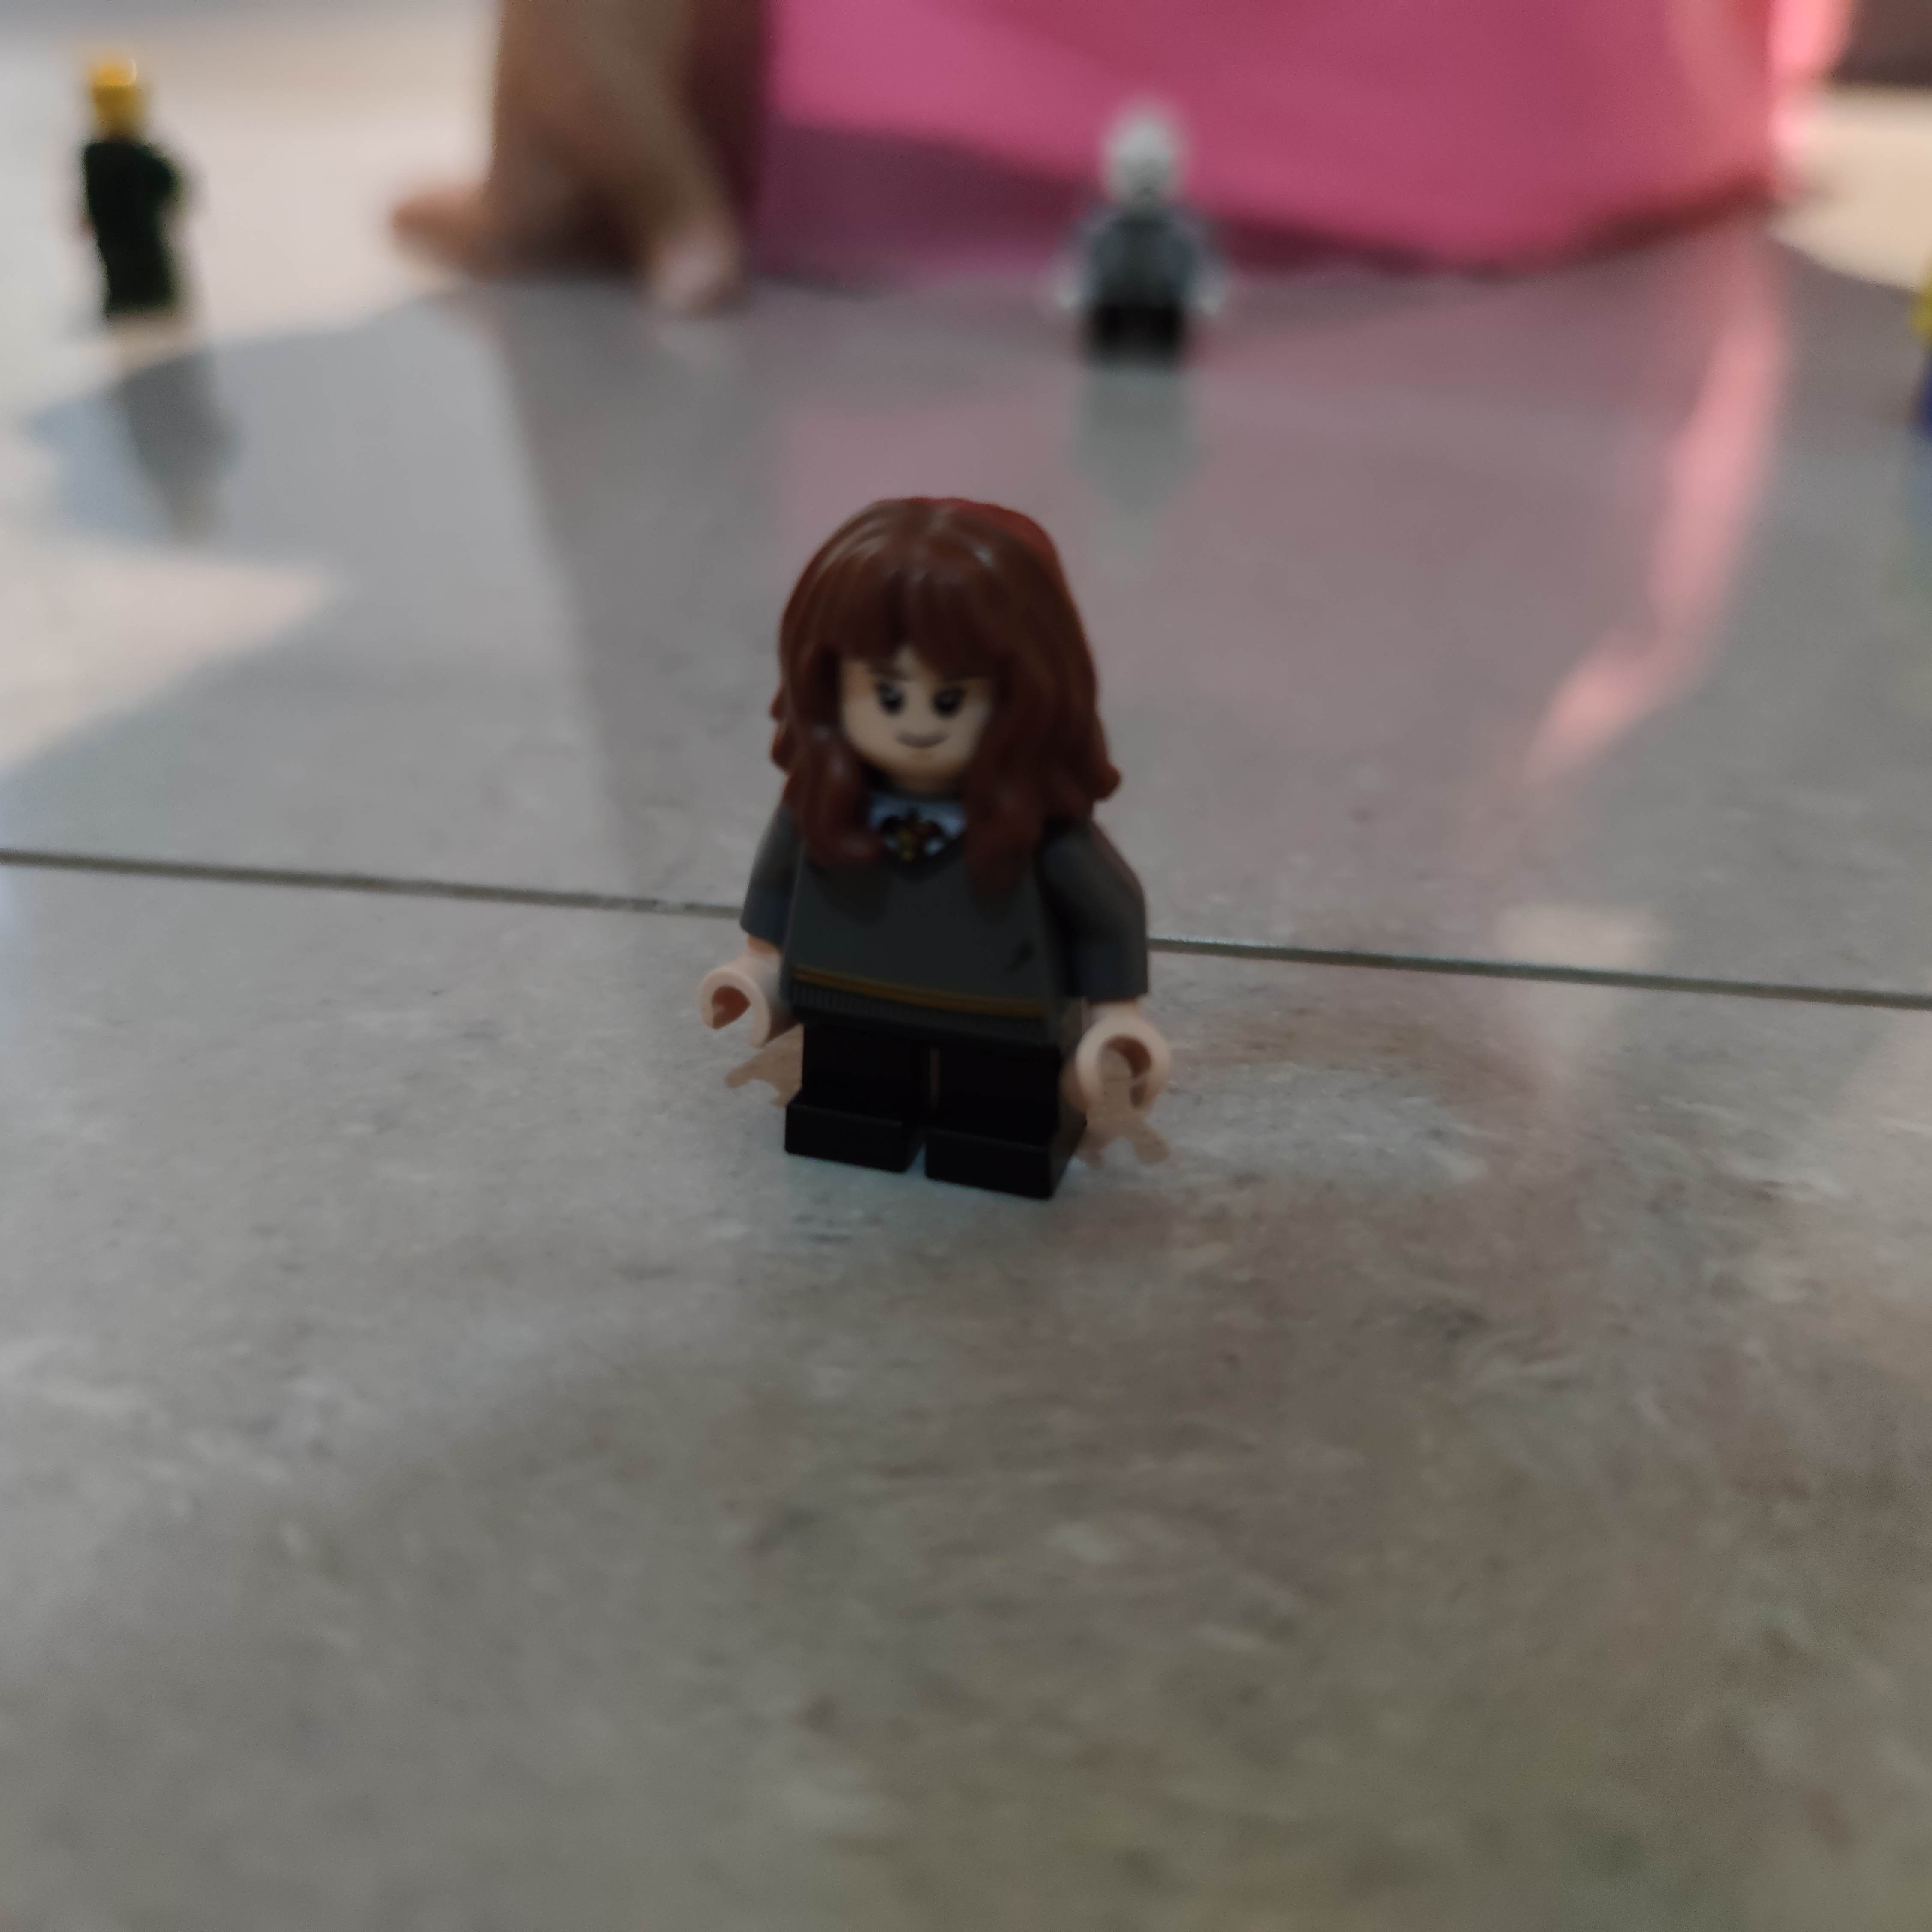lego: (692, 485, 1173, 1219)
